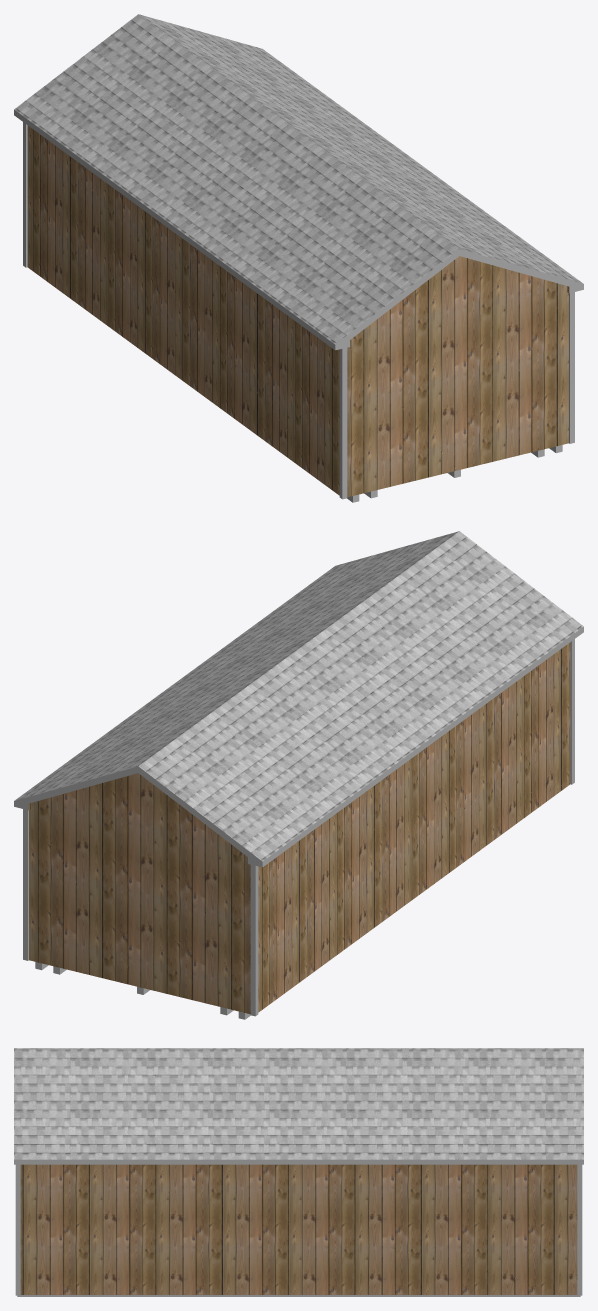
Rendered from Single Garage A-frame_12x30.obj.
3 renders of one model, top to bottom at view 1: azimuth 30°, elevation 25°; view 2: azimuth 150°, elevation 25°; view 3: azimuth 270°, elevation 25°, orthographic. The views are drawn at different scales.
Parts seen in each view (by area): view 1: Shed, Roof, Sides, Trim; view 2: Shed, Roof, Sides, Trim; view 3: Shed, Roof, Sides, Trim, Floor.
Boxes of the visible parts, box(x1,y1,x2,y2) form: Shed: box(27, 125, 569, 497); Roof: box(14, 14, 583, 344); Sides: box(14, 110, 583, 350); Trim: box(23, 122, 574, 499); Shed: box(28, 642, 570, 1014); Roof: box(14, 531, 583, 861); Sides: box(14, 627, 583, 867); Trim: box(23, 639, 574, 1016); Shed: box(20, 1164, 577, 1294); Roof: box(14, 1048, 583, 1159); Sides: box(14, 1159, 583, 1164); Trim: box(15, 1164, 582, 1295); Floor: box(17, 1295, 580, 1296).
Bounding box in the file's own units: 3.86 × 3.4 × 8.64.
